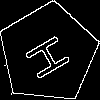H: (23, 28, 81, 82)
